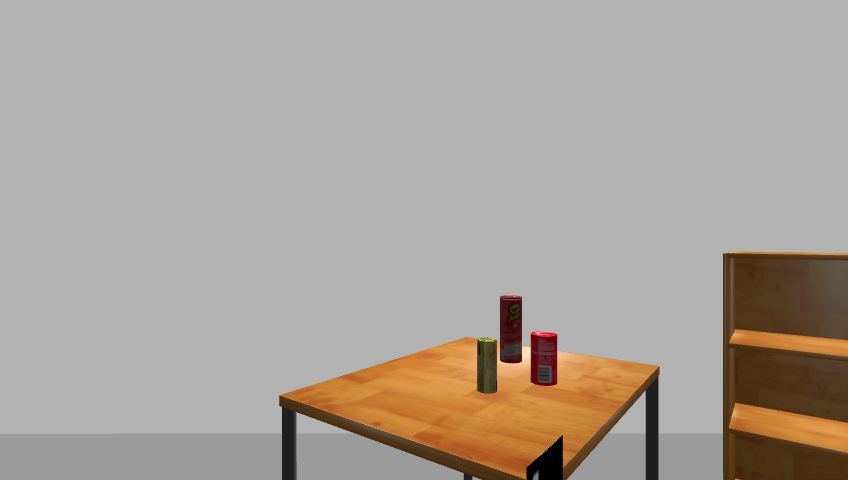aruco marker: (522, 437, 567, 480)
biscuits pack: (476, 337, 498, 395)
bookshelf: (717, 250, 848, 480)
coke can: (529, 331, 559, 386)
dinner table: (273, 337, 670, 480)
pringles can: (497, 294, 524, 365)
